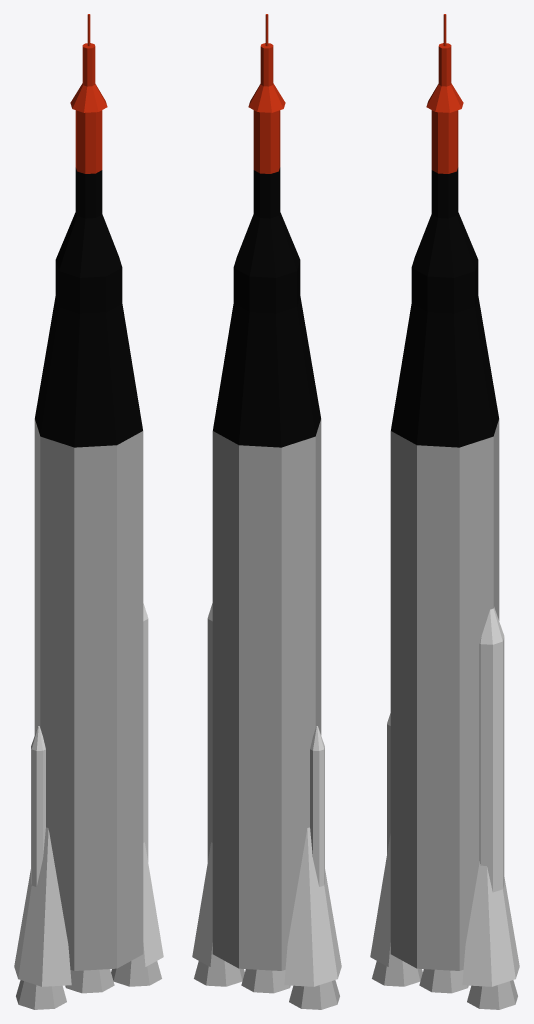
File: Mercury Atlas.fbx
3 renders of one model, left to right at view 1: azimuth 30°, elevation 25°; view 2: azimuth 150°, elevation 25°; view 3: azimuth 330°, elevation 25°, orthographic.
Visible parts, largest first — view 1: Mercury Atlas Scaled; view 2: Mercury Atlas Scaled; view 3: Mercury Atlas Scaled.
Part boxes in pixels (bbox=[...]): Mercury Atlas Scaled: bbox=[14, 14, 163, 1009]; Mercury Atlas Scaled: bbox=[192, 14, 341, 1009]; Mercury Atlas Scaled: bbox=[370, 14, 519, 1009].
Size of the model in its own units: 61.79 by 405 by 42.38.
